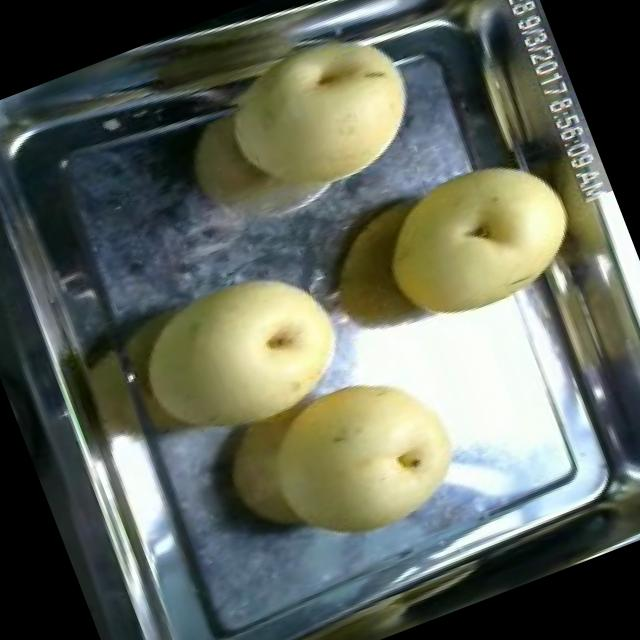Fruit: (153, 3, 450, 255), (202, 348, 490, 587), (112, 241, 368, 460), (352, 130, 604, 352)
